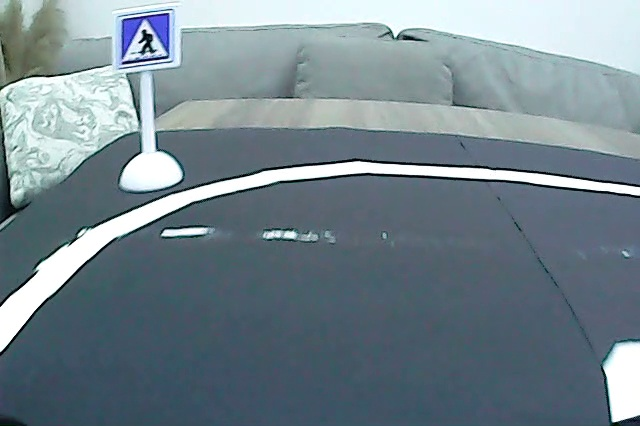pedestrian crossing: (118, 7, 172, 65)
